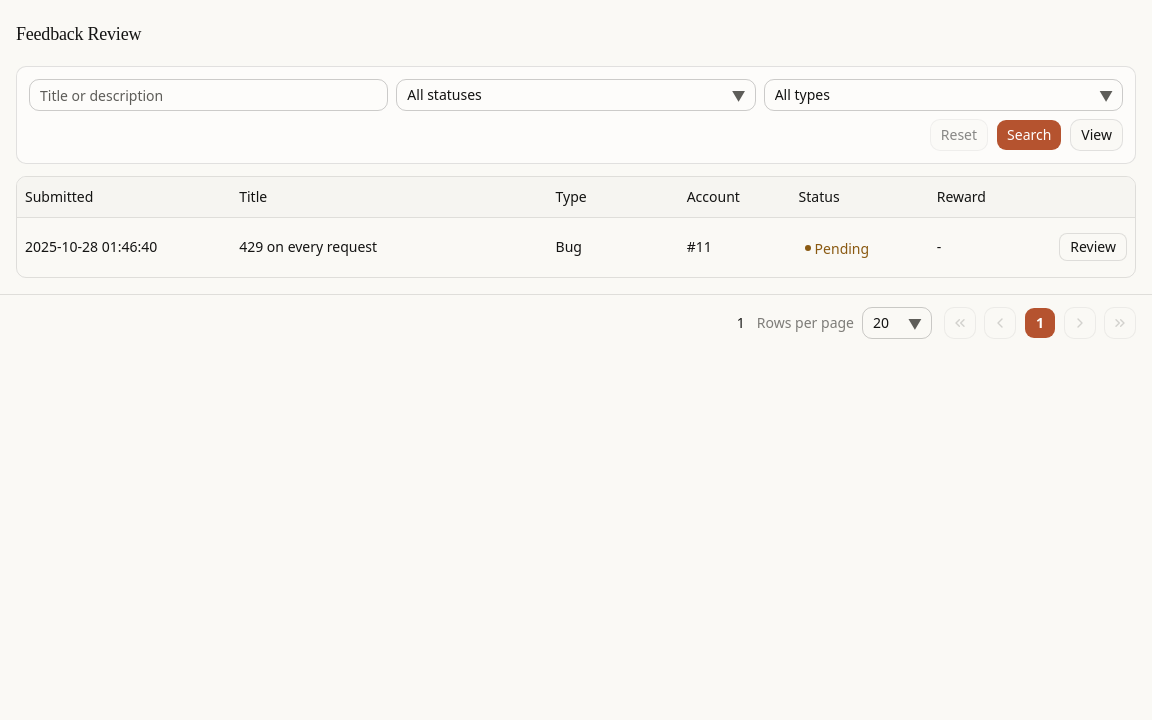
Test: a reward above the cap disables Save
The image size is (1152, 720).
Check: the text "429 on every request" is shown, box [239,237,377,256]
Click the button "Review" at (1093,247), box [1059,233,1127,261]
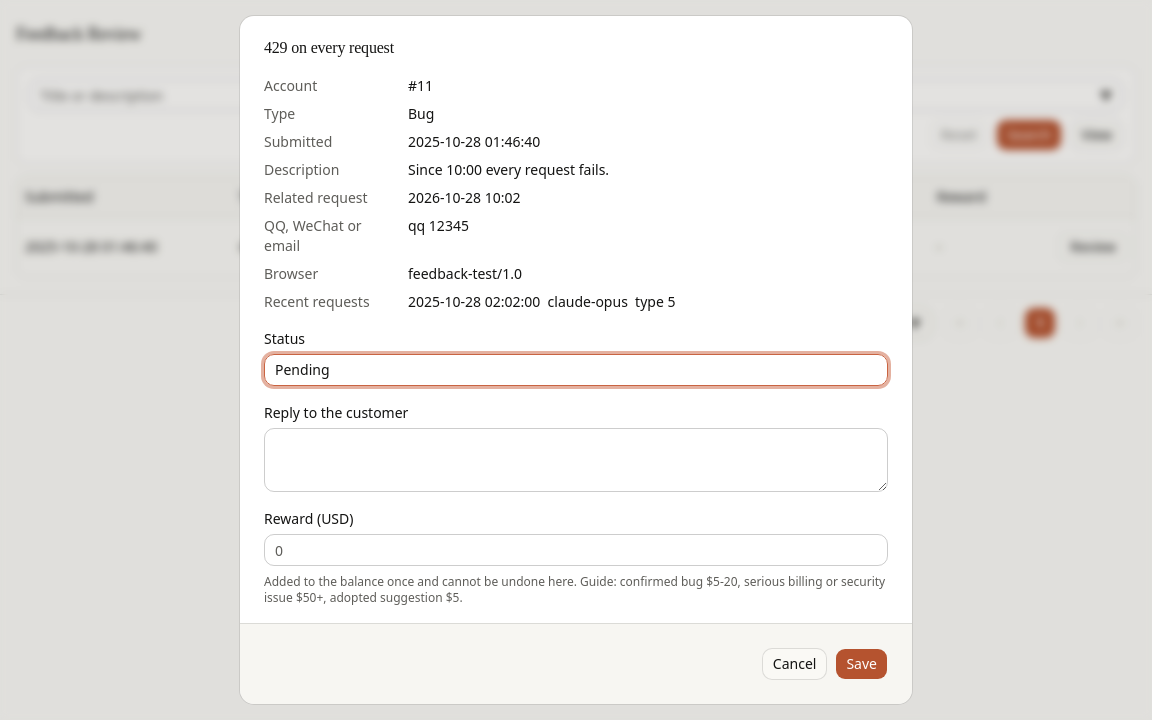
Type "1500" into the number field labelled "Reward (USD)" at (576,550), box [264,534,888,566]
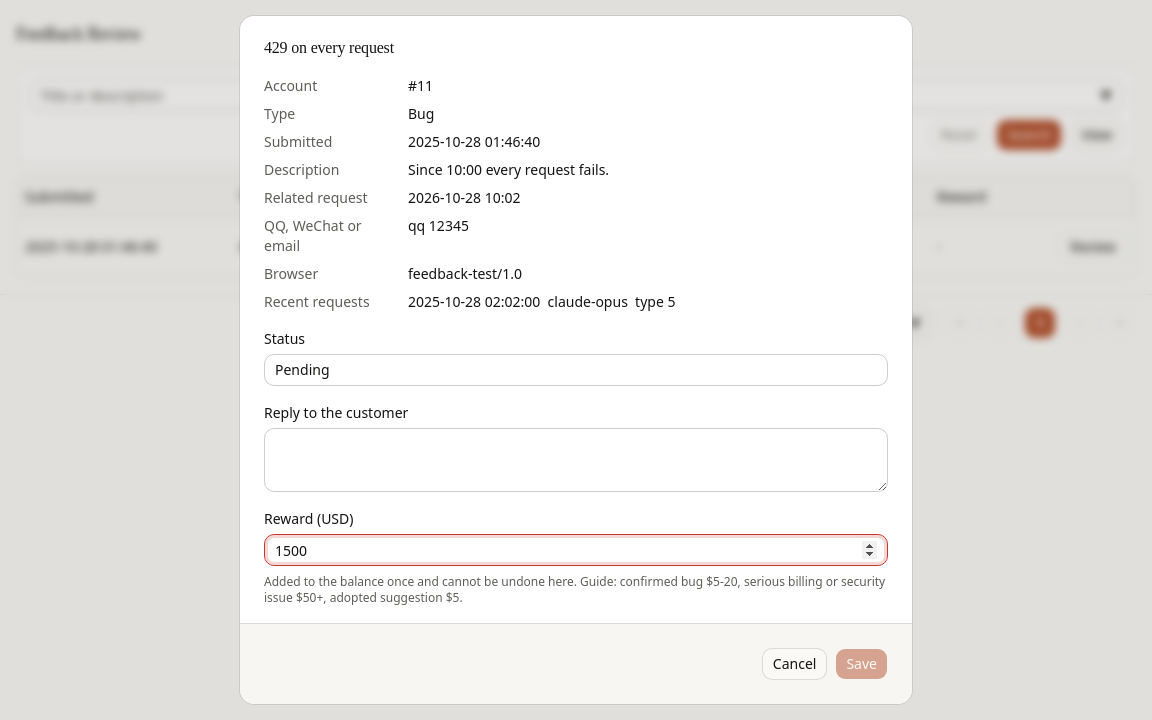
Check: the button "Save" is disabled, box [835,648,888,680]
